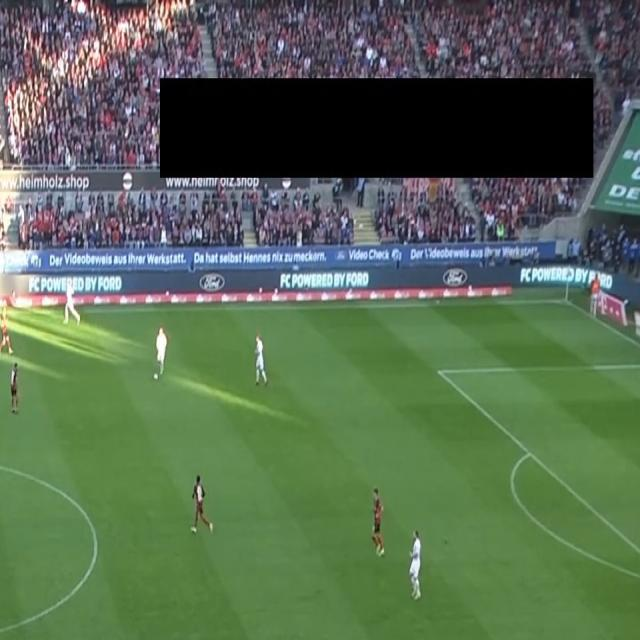ball: (153, 372, 159, 382)
